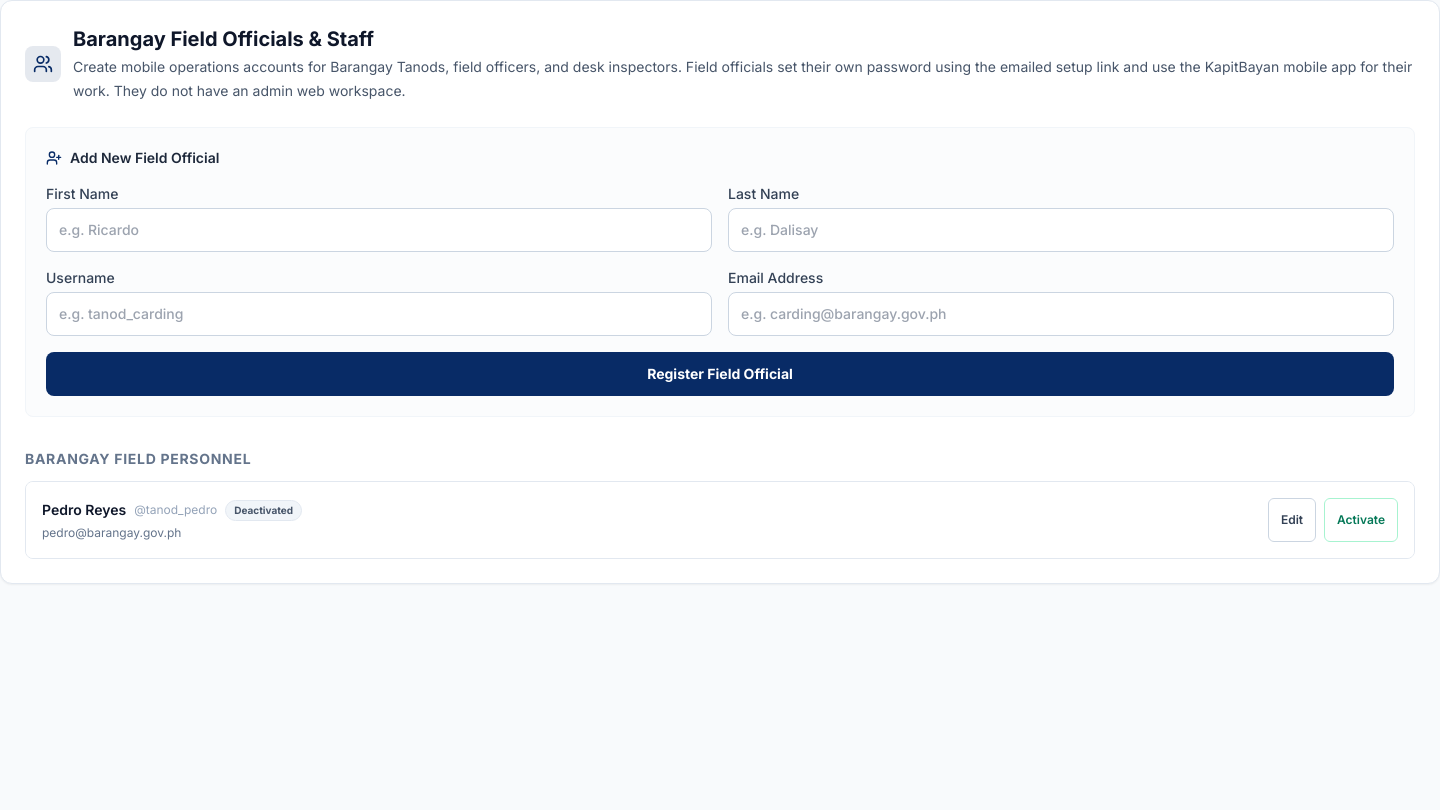
Test: StaffManagementSettings › keeps the editor open and announces a server error when saving fails
Expected: the heading "Pedro Reyes" is shown, [42,500,126,520]
Step 1. Click the button with aria-label "Edit Pedro Reyes" → x=1292, y=520, box [1268,498,1316,542]
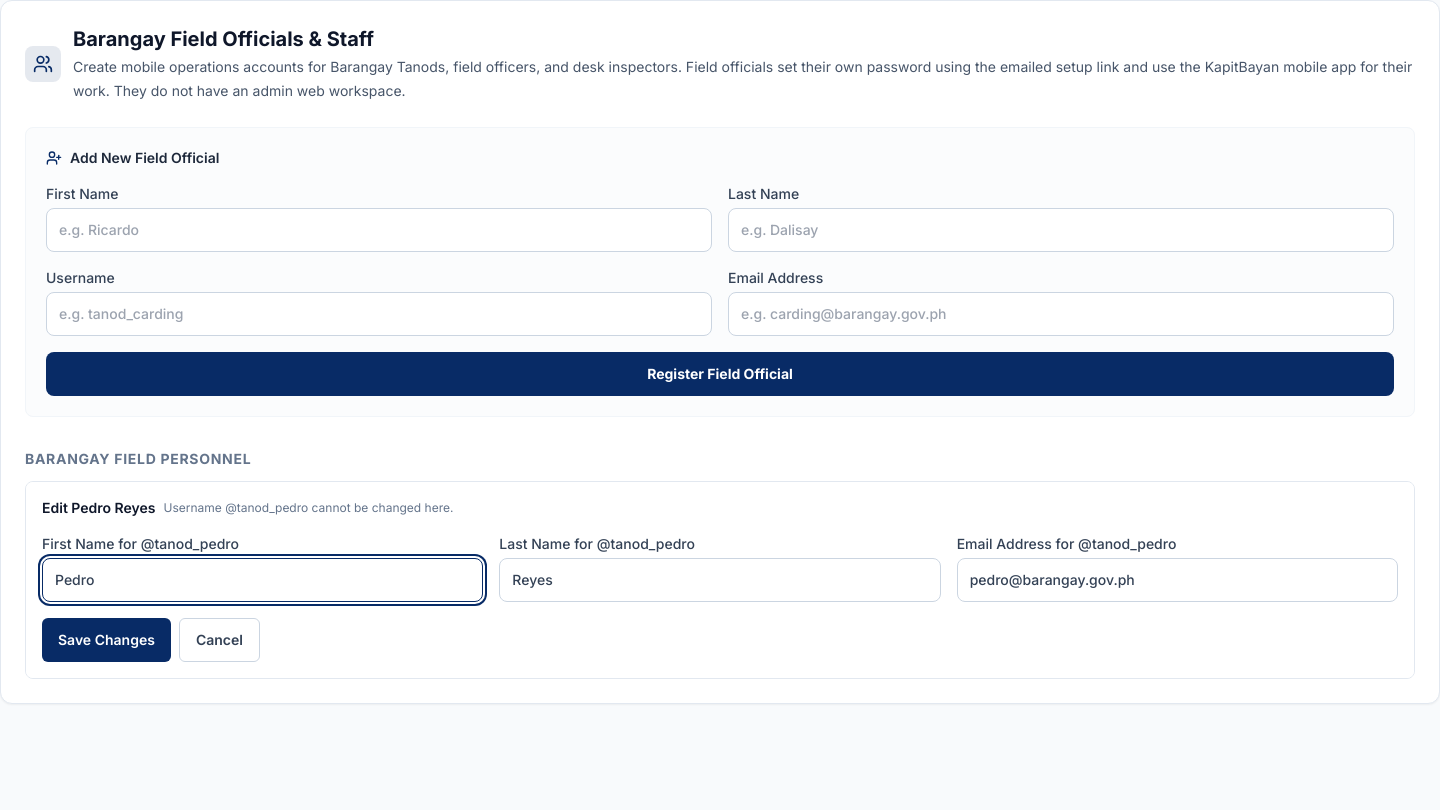
Step 2. Replace the text in the field labelled "Email Address for @tanod_pedro" with "duplicate@example.com" → x=1177, y=580, box [957,558,1398,602]
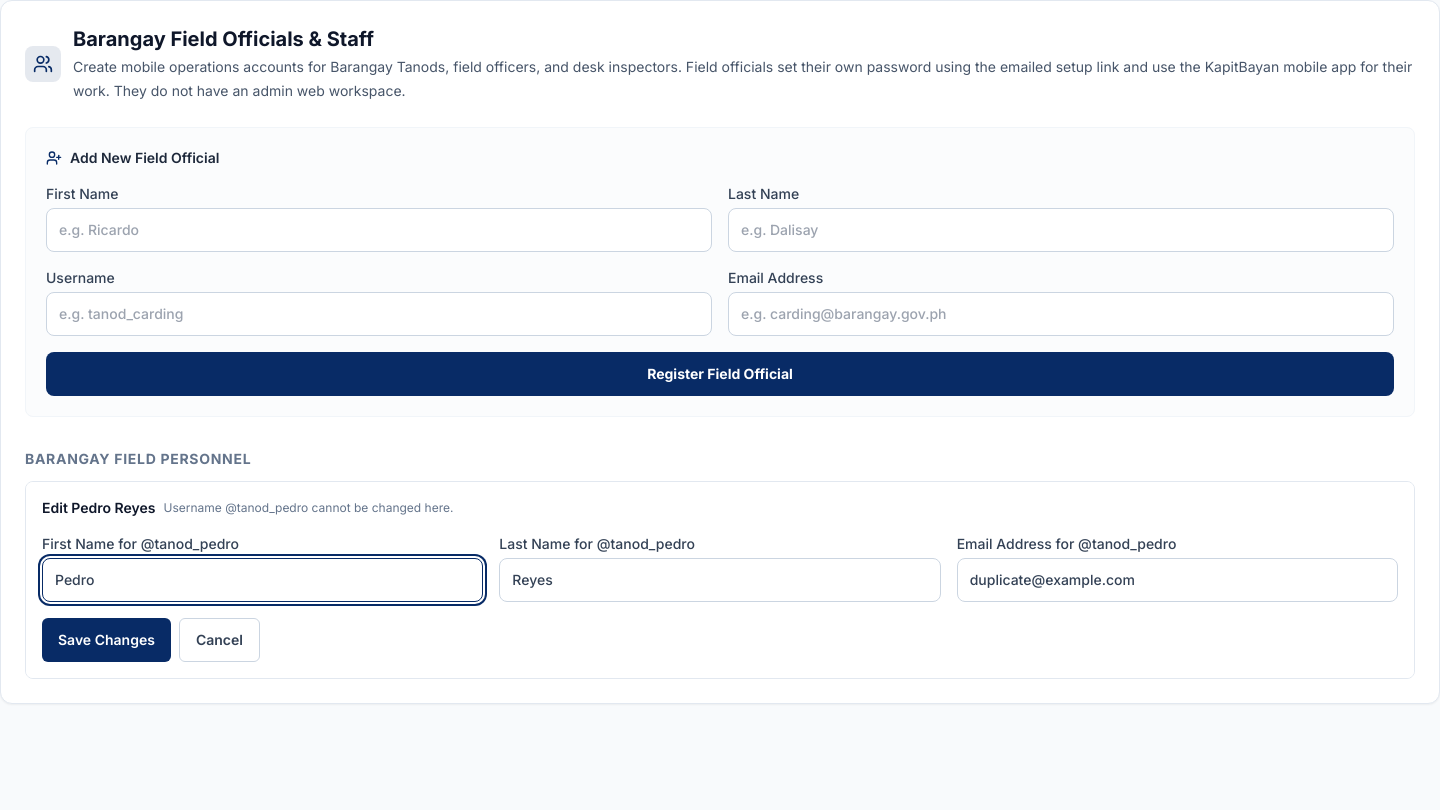
Step 3. Click the button "Save Changes" → x=106, y=640, box [42,618,171,662]
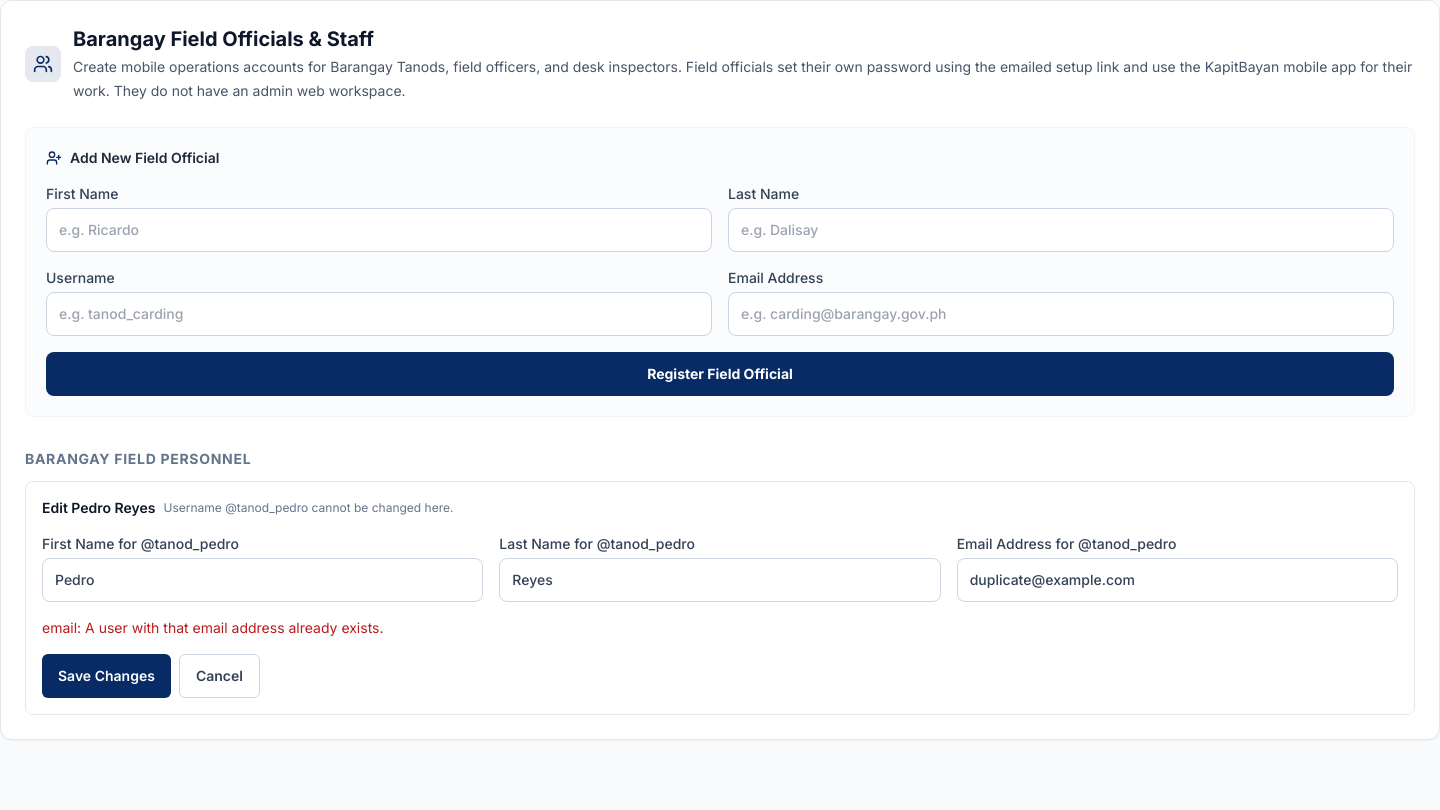
Now the button "Cancel" is shown, box [179,654,260,698]
Now the message reads "email: A user with that email address already exists.", box [42,619,384,636]
